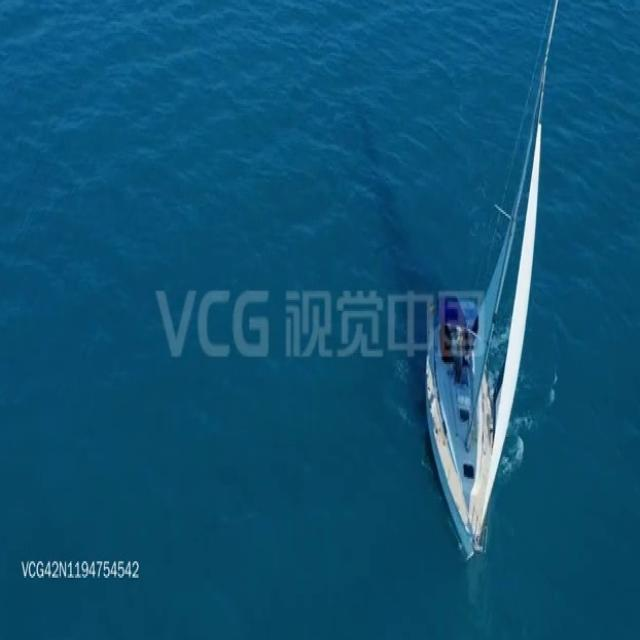sailboat: (416, 0, 564, 563)
